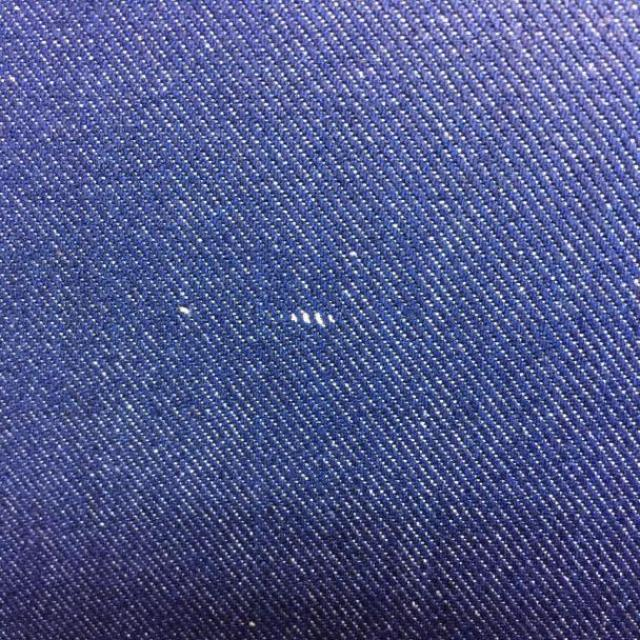Knot: (289, 311, 336, 328), (178, 307, 191, 316)
